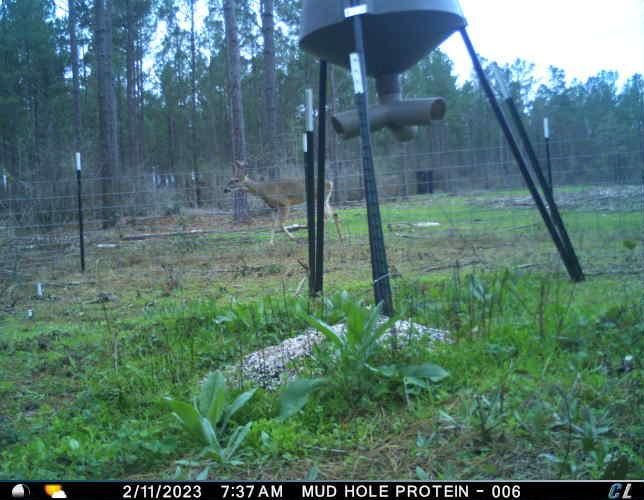Deer: (224, 162, 345, 247)
